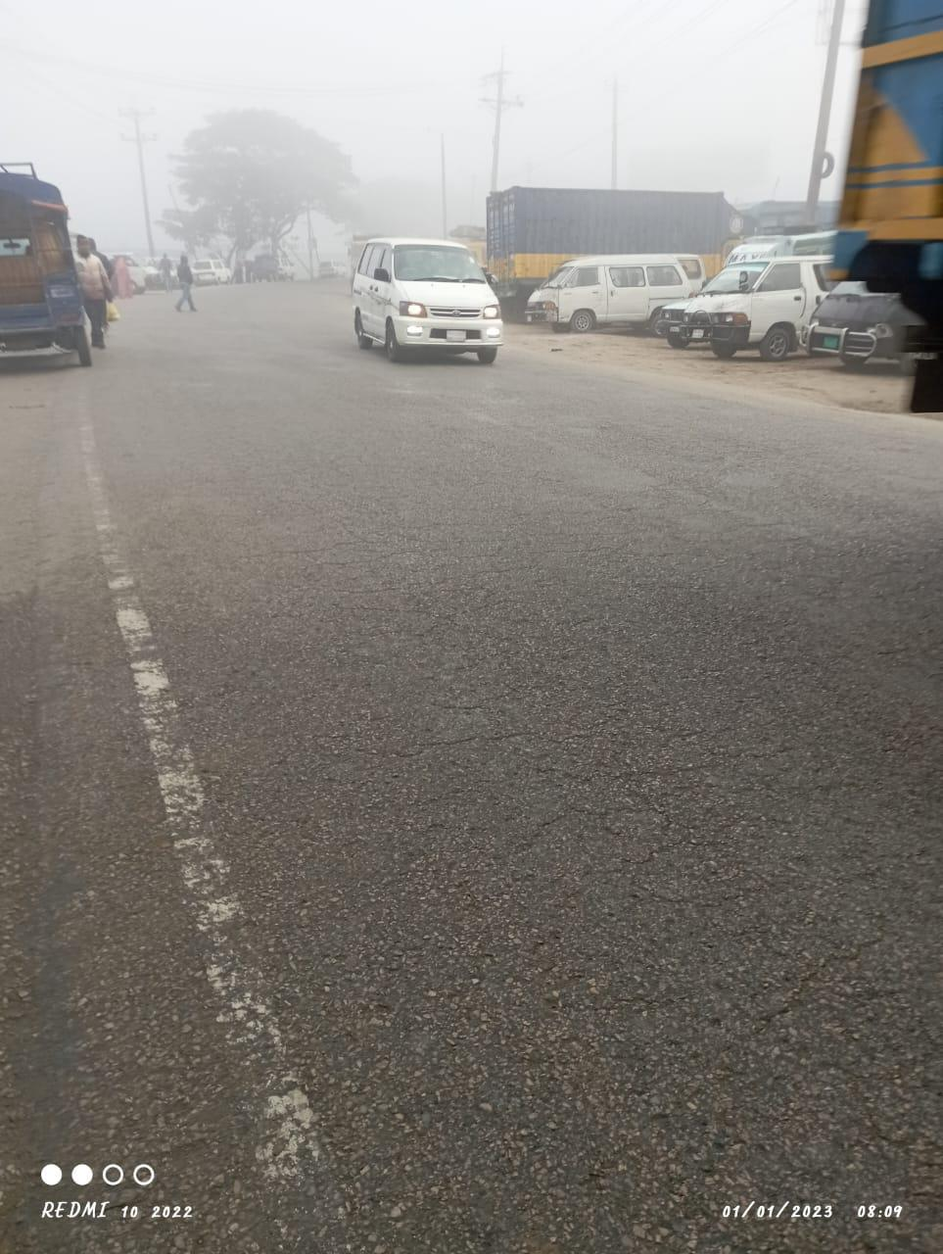Car: (335, 223, 515, 393), (685, 240, 824, 364), (537, 255, 694, 334)
Truck: (487, 182, 745, 298)
